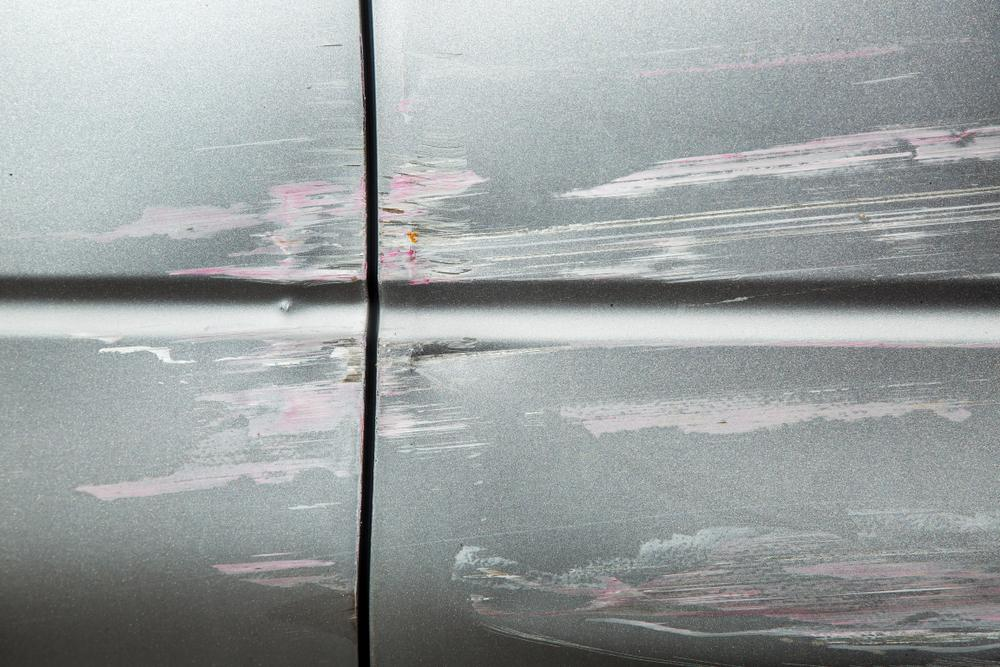scratch: (376, 25, 1000, 667), (7, 32, 371, 625)
